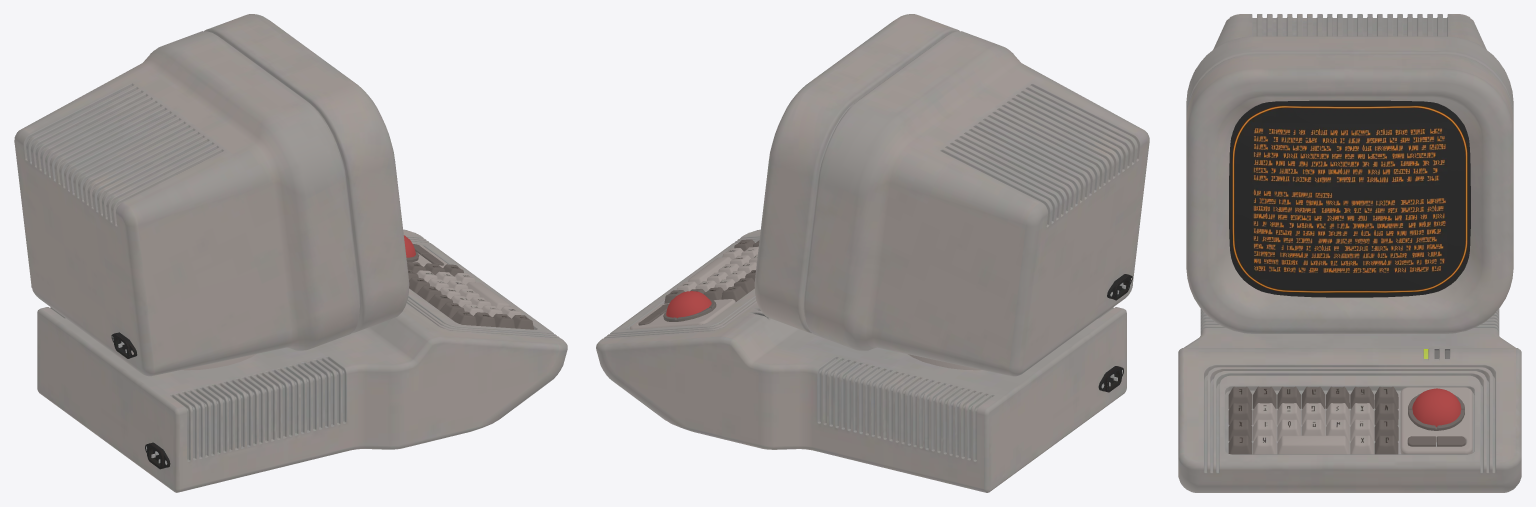
The picture shows the model from 3 angles, left to right: view 1: azimuth 30°, elevation 25°; view 2: azimuth 150°, elevation 25°; view 3: azimuth 270°, elevation 25°; orthographic projection. The views are drawn at different scales.
Visible parts, largest first — view 1: defaultMaterial (×2); view 2: defaultMaterial (×2); view 3: defaultMaterial (×2).
Boxes of the visible parts, x1,y1,x2,y2 form: defaultMaterial (×2): (14,14,567,492); defaultMaterial (×2): (596,14,1149,492); defaultMaterial (×2): (1178,14,1521,492).
Bounding box in the file's own units: 2 × 1.55 × 1.32.
2 materials, 2 textured.
